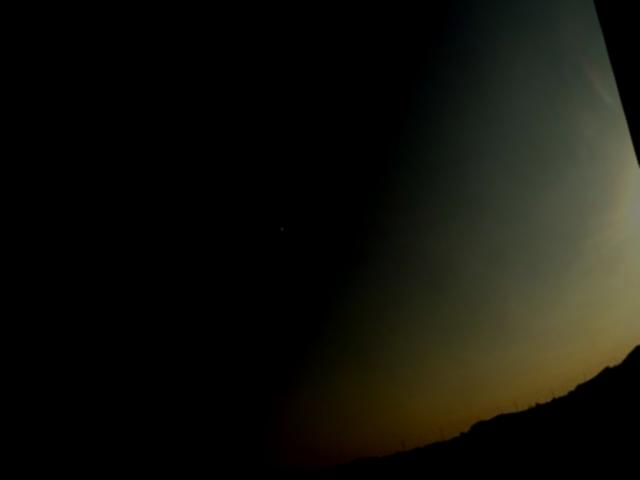uav: (225, 188, 332, 270)
